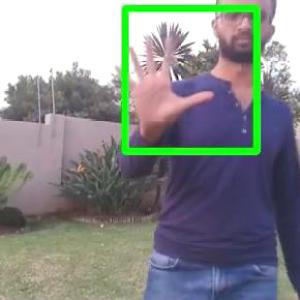follow_hand: (115, 29, 214, 130)
